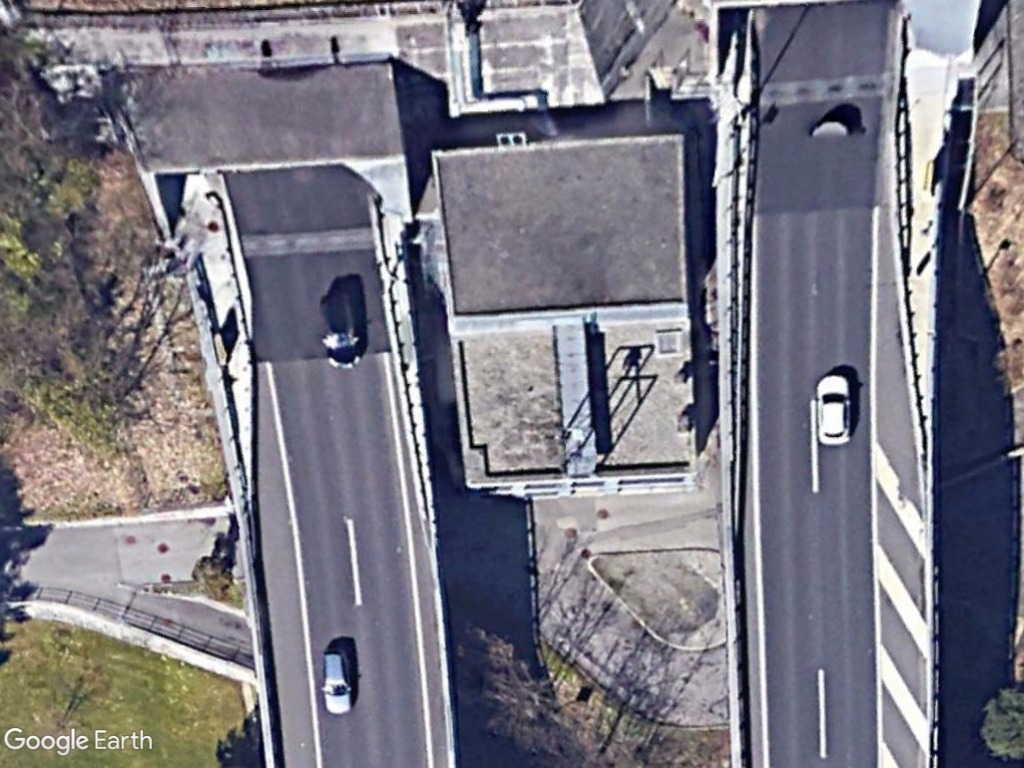car: (319, 291, 369, 375), (809, 369, 857, 453), (317, 641, 362, 721)
